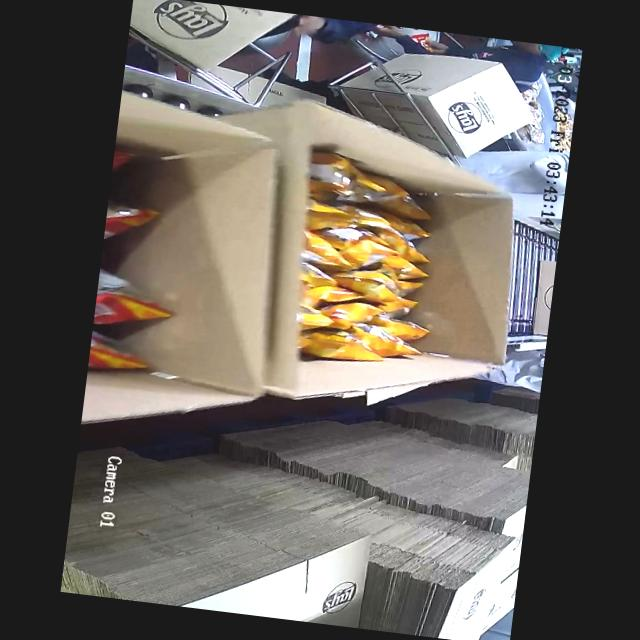cheese: (277, 170, 439, 368)
masala: (86, 167, 168, 376)
